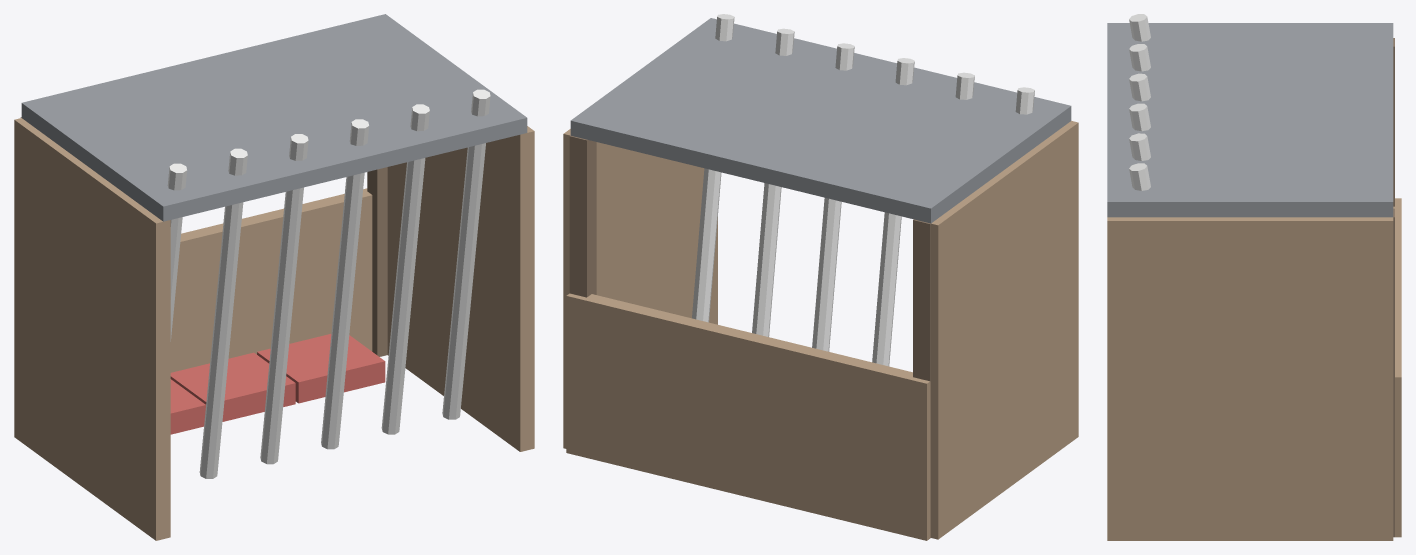
File: jump-store.glb
3 renders of one model, left to right at view 1: azimuth 30°, elevation 25°; view 2: azimuth 150°, elevation 25°; view 3: azimuth 270°, elevation 25°, orthographic.
Visible parts, largest first — view 1: jump-store; view 2: jump-store; view 3: jump-store.
Part boxes in pixels (bbox=[...]): jump-store: bbox=[14, 14, 534, 540]; jump-store: bbox=[563, 14, 1078, 540]; jump-store: bbox=[1107, 14, 1401, 540].
Bounding box in the file's own units: 2.62 × 2.34 × 1.75.
